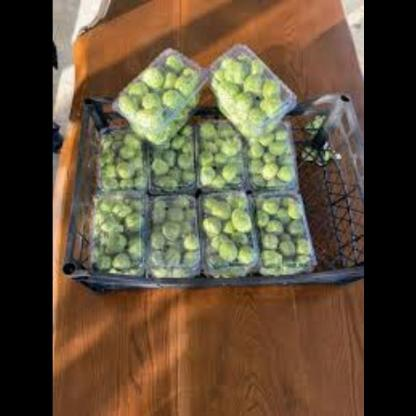brus capusta: (98, 127, 292, 259), (210, 29, 291, 141), (129, 39, 214, 128)
